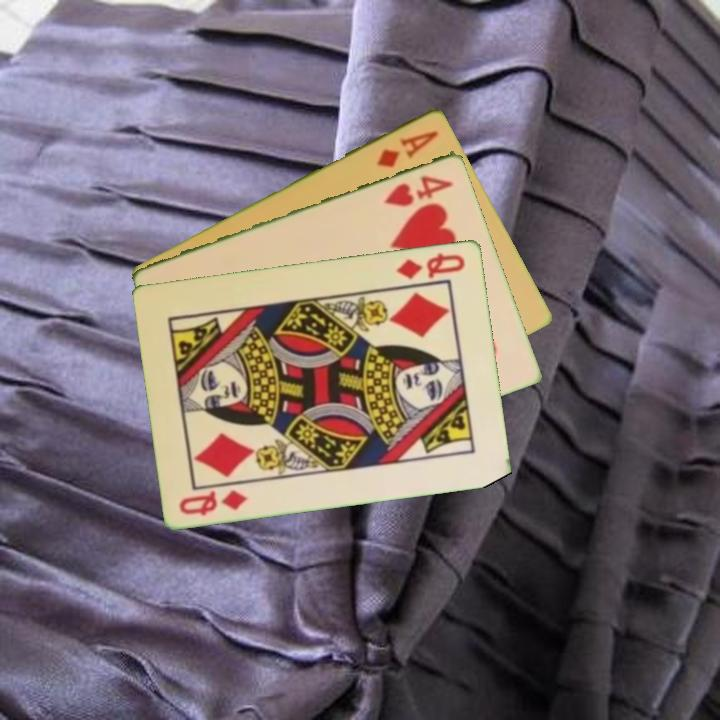4h: (380, 171, 456, 209)
Ad: (373, 126, 442, 171)
Qd: (393, 249, 469, 282), (175, 485, 251, 518)
